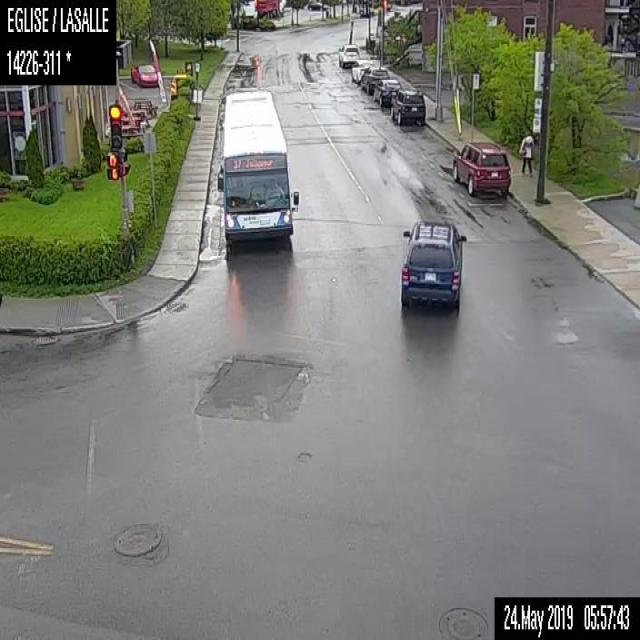bus: (216, 87, 299, 245)
pedestrian: (518, 127, 534, 176)
vehicle: (399, 217, 466, 315), (449, 137, 511, 199), (391, 88, 426, 125), (359, 65, 388, 94), (130, 59, 159, 87), (372, 77, 401, 105), (338, 43, 359, 68), (351, 58, 366, 82)
